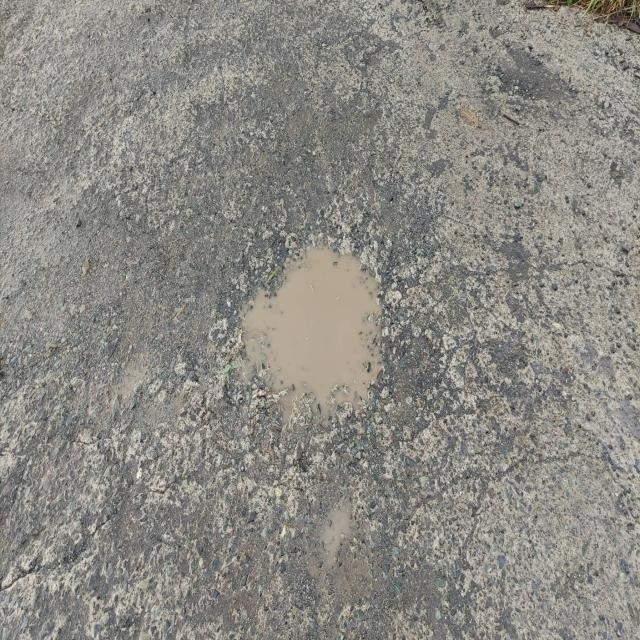pothole: (218, 218, 396, 430)
